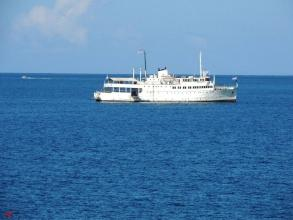otherboat: (90, 53, 250, 104)
